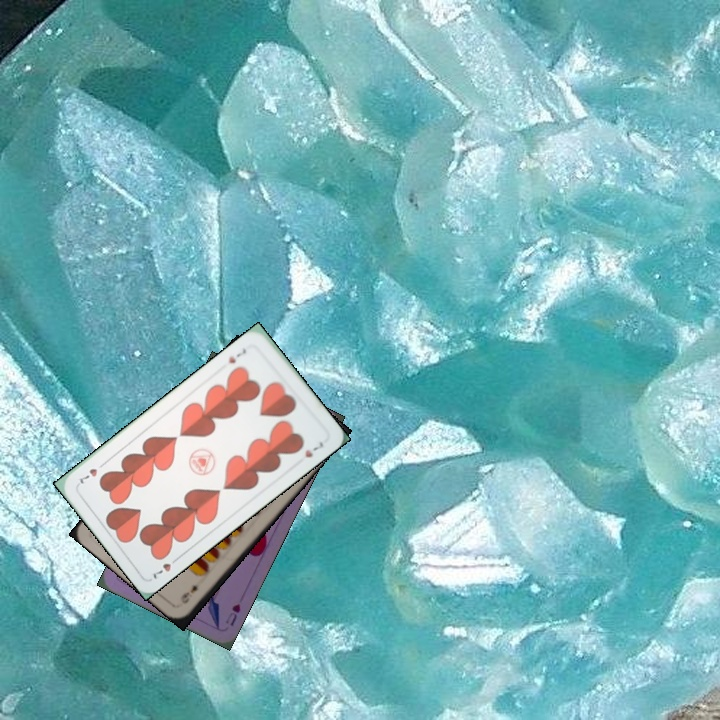E9: (177, 580, 200, 606)
H7: (147, 552, 182, 582), (224, 344, 249, 366)
HU: (221, 599, 243, 629)
